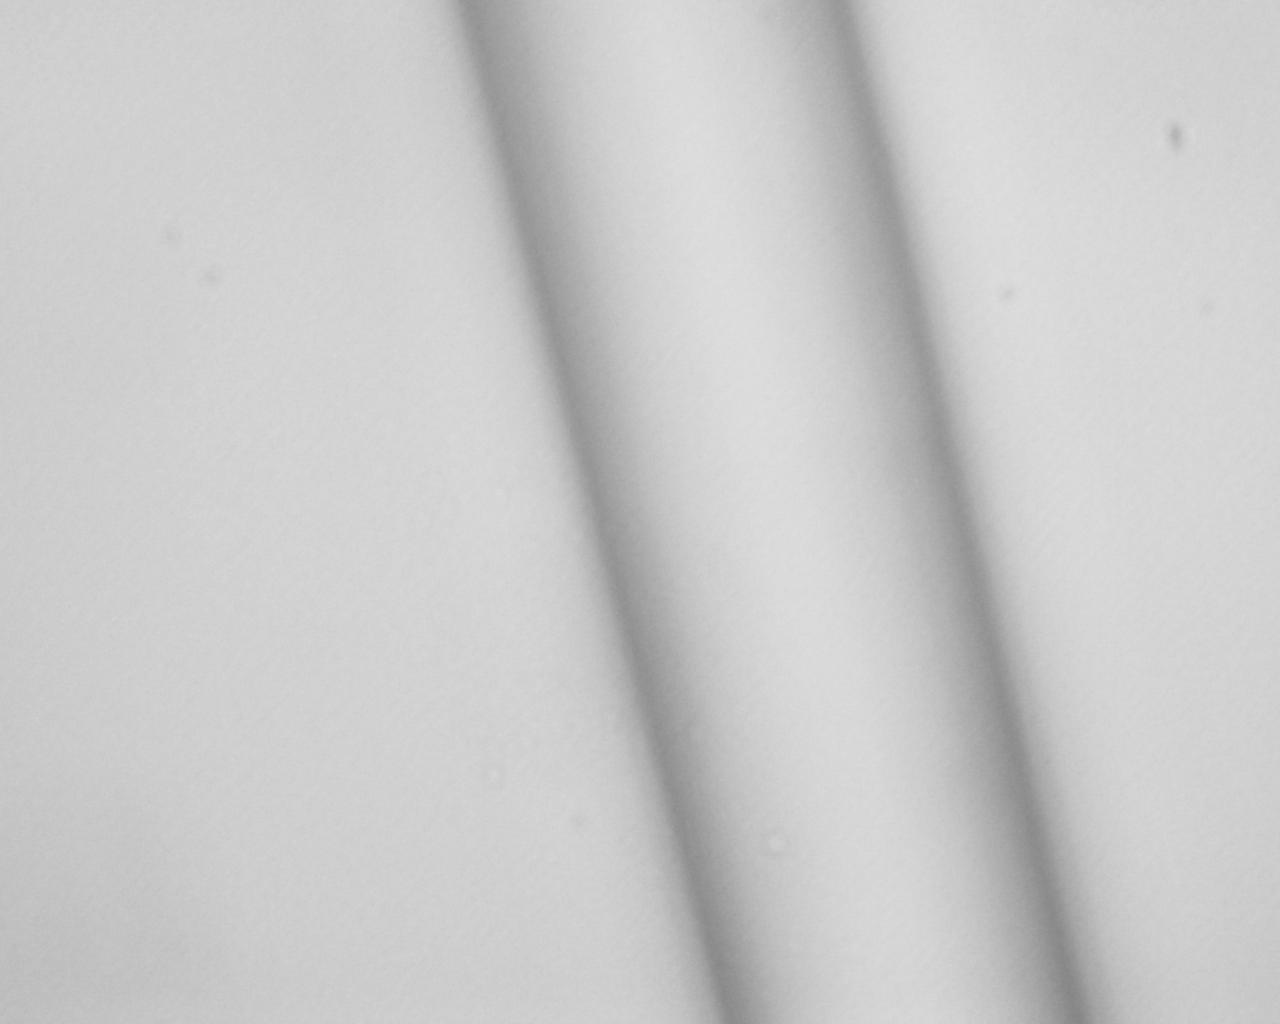fiber: (935, 682, 1280, 1024), (0, 481, 329, 834)
